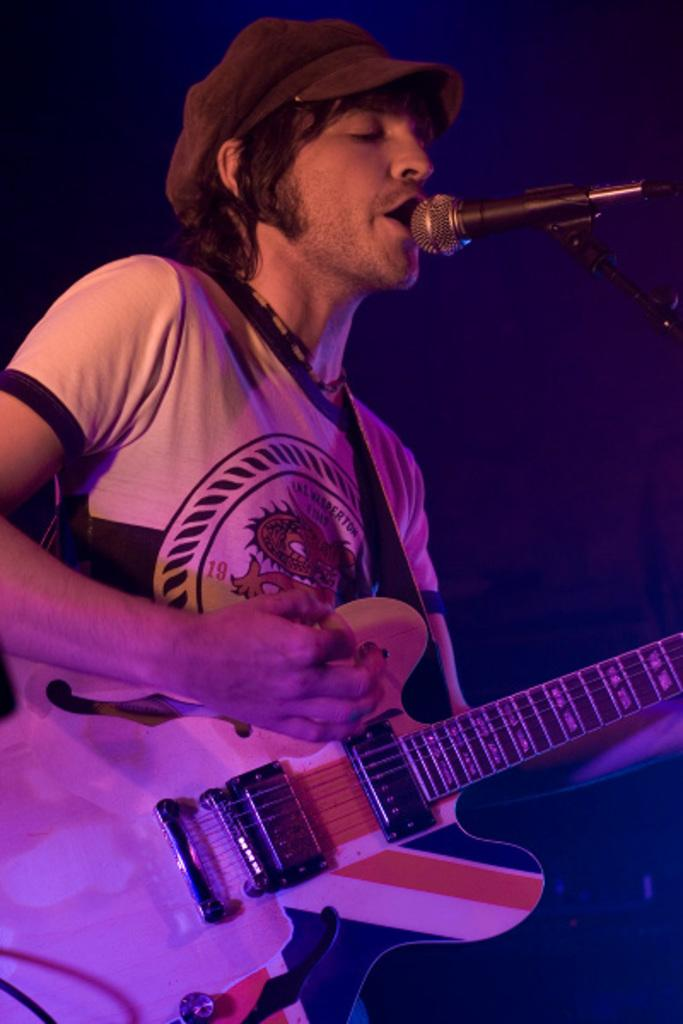Sem Máscara: (280, 82, 440, 276)
